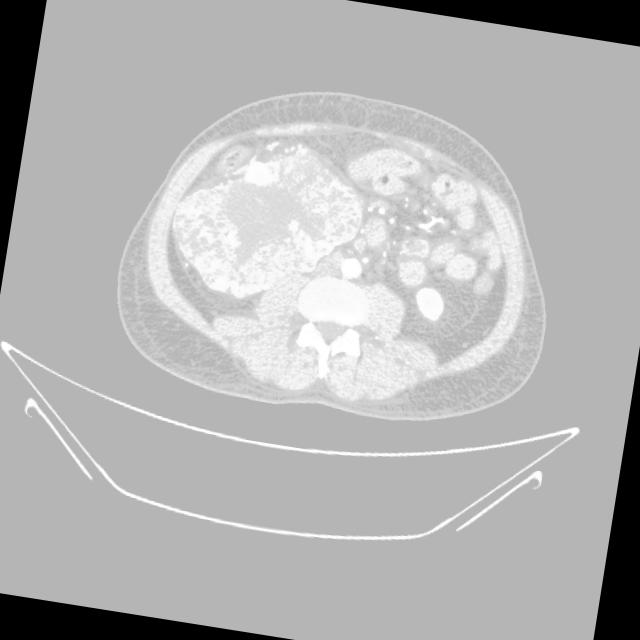TUMOR: (248, 146, 615, 326)
